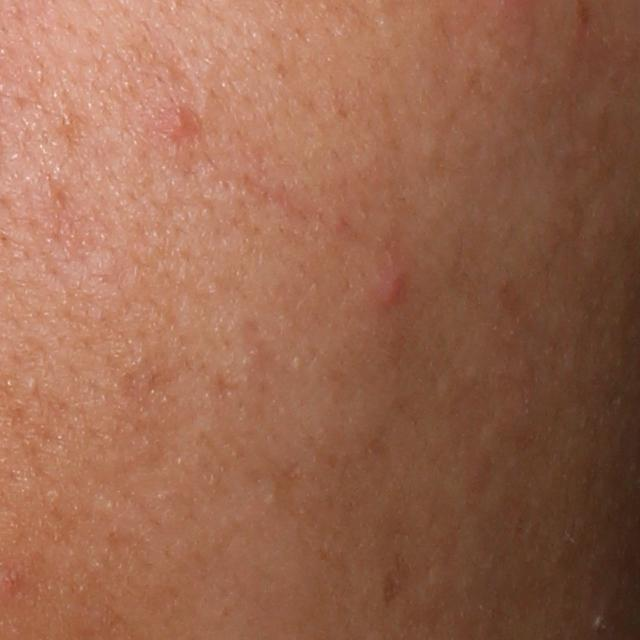papule: (369, 264, 413, 316), (154, 101, 199, 145)
